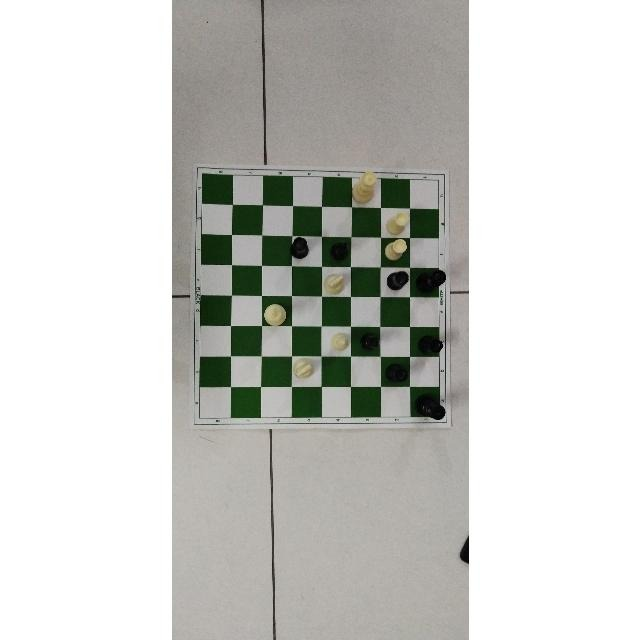black-bishop: (329, 240, 349, 261), (360, 331, 380, 351)
black-king: (413, 394, 444, 420)
black-queen: (416, 268, 446, 293)
black-rook: (417, 336, 443, 356), (385, 270, 408, 290), (383, 364, 406, 384), (289, 237, 309, 259)
white-bishop: (329, 332, 347, 350)
white-king: (262, 304, 286, 326)
white-knight: (322, 273, 344, 294), (290, 359, 311, 378)
white-queen: (351, 171, 376, 203)
white-rook: (384, 238, 407, 262), (385, 211, 408, 234)
